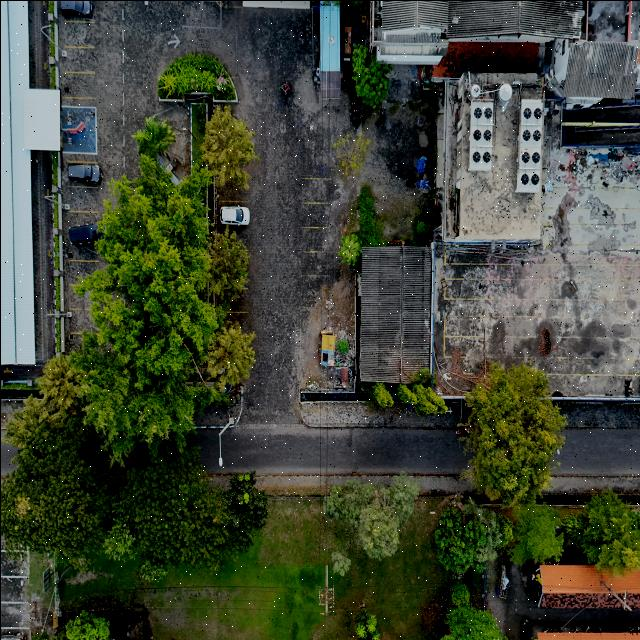Tree: (461, 363, 565, 508), (200, 102, 253, 190), (433, 508, 488, 582), (206, 317, 256, 395), (344, 44, 390, 108), (357, 499, 400, 562), (363, 369, 395, 414), (344, 606, 386, 640), (335, 229, 360, 268)
